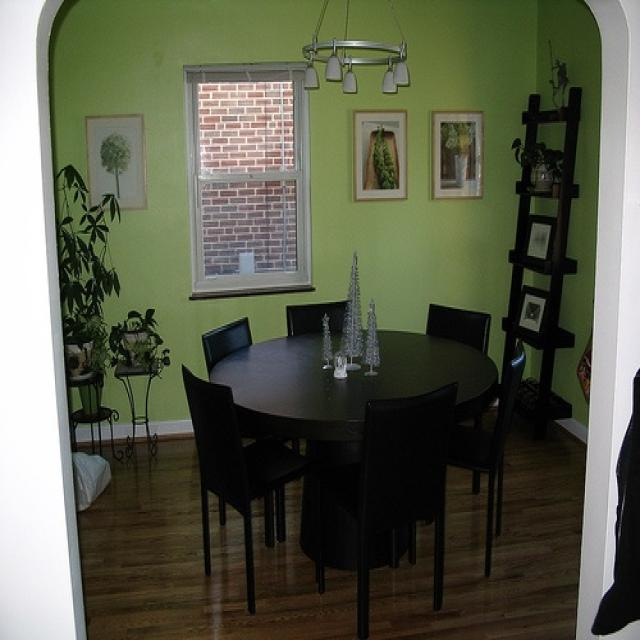chair: (315, 378, 461, 639), (182, 365, 328, 616), (202, 317, 300, 530), (435, 339, 527, 533), (423, 301, 495, 496), (285, 298, 354, 339)
pottedplant: (63, 163, 123, 414), (110, 309, 171, 372)
